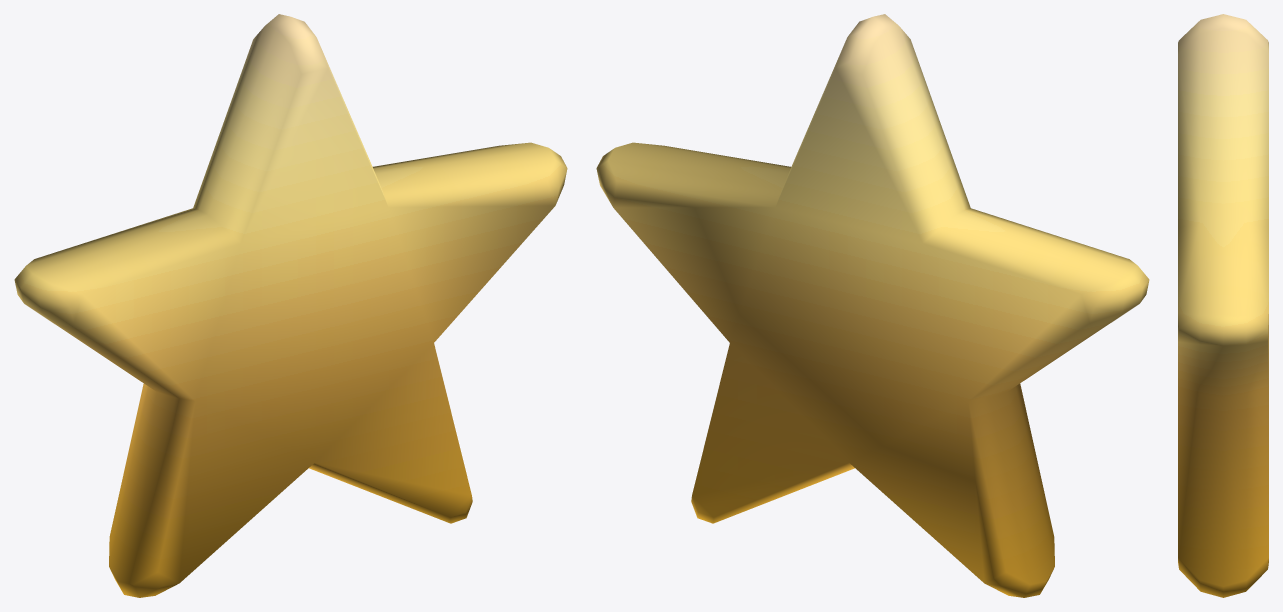
File: Star01.fbx
3 views of the same model, side by side, from view 1: azimuth 30°, elevation 25°; view 2: azimuth 150°, elevation 25°; view 3: azimuth 270°, elevation 25° (orthographic). The views are drawn at different scales.
Visible parts, largest first — view 1: Star01; view 2: Star01; view 3: Star01.
Boxes of the visible parts, x1,y1,x2,y2 form: Star01: [14, 14, 567, 597]; Star01: [596, 14, 1149, 597]; Star01: [1178, 14, 1268, 597].
Bounding box in the file's own units: 0.5199 × 0.4963 × 0.0802.
